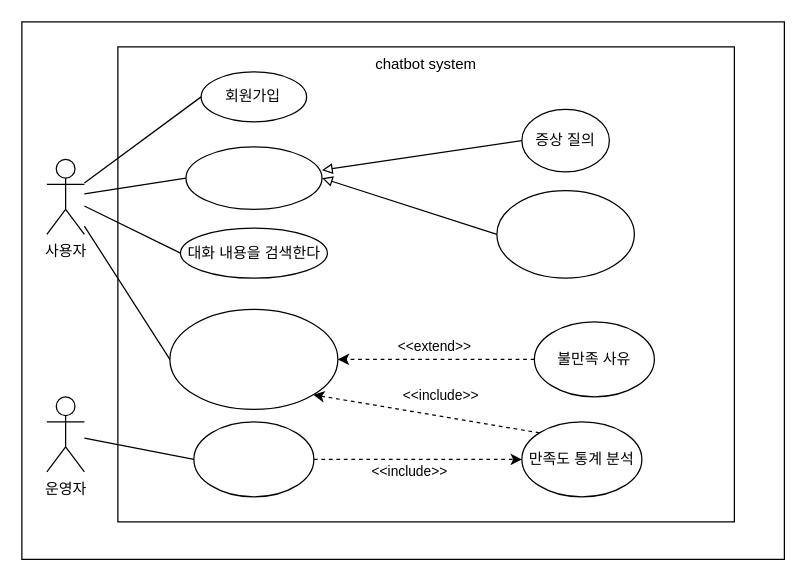
This 806x581 diagram has some shape labels left out. The box of each missing label's shape, as (x1, y1, x2, y2) in pixels:
가능 질병군 제시 및 치료법 추천: (496, 189, 634, 278)
답변에 대한 만족도조사: (169, 308, 338, 409)
증상을 상담한다: (185, 146, 322, 209)
활용도 분석 결과: (193, 421, 314, 497)
